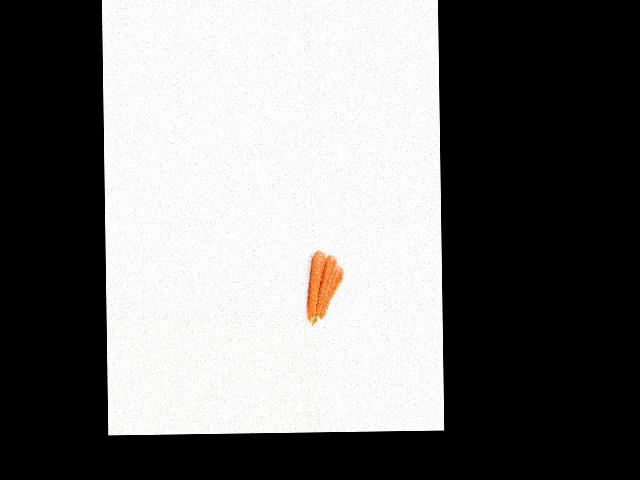carrot: (302, 247, 327, 322)
